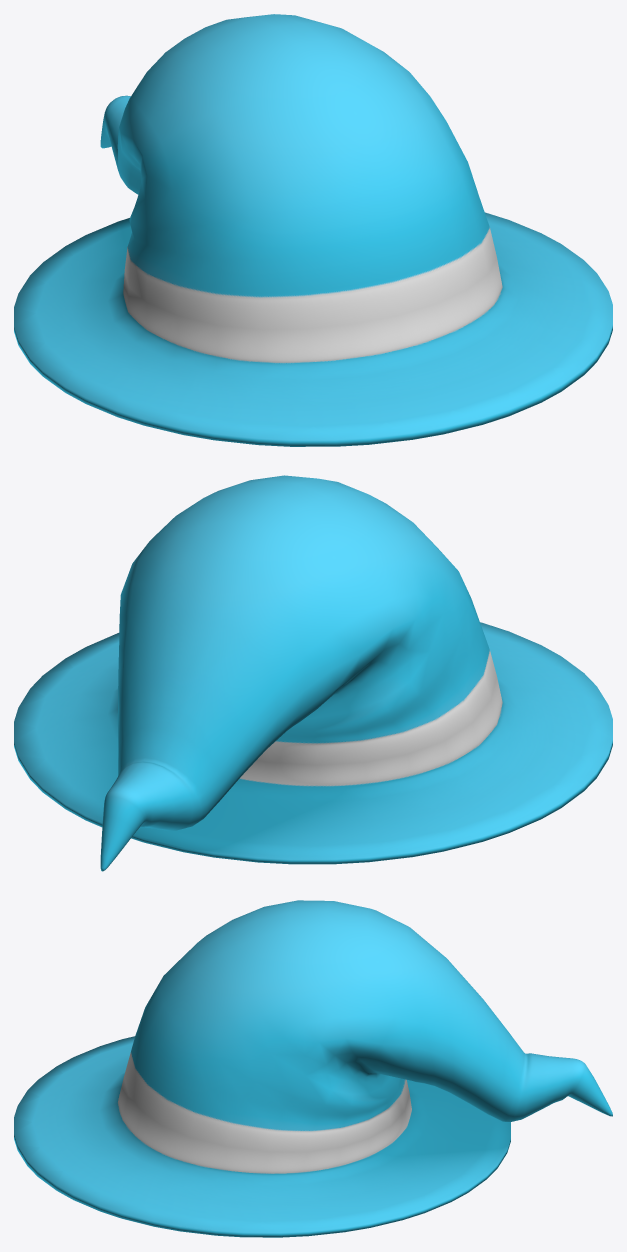
The model's file is Wizard.fbx.
3 views of the same model, one above another, from view 1: azimuth 30°, elevation 25°; view 2: azimuth 150°, elevation 25°; view 3: azimuth 270°, elevation 25° (orthographic). The views are drawn at different scales.
Visible parts, largest first — view 1: Wizard; view 2: Wizard; view 3: Wizard.
Part boxes in pixels (box(x1,y1,x2,y2)): Wizard: box(14, 14, 612, 446); Wizard: box(14, 475, 612, 871); Wizard: box(14, 900, 612, 1237).
Size of the model in its own units: 63.07 by 31.16 by 76.02.
